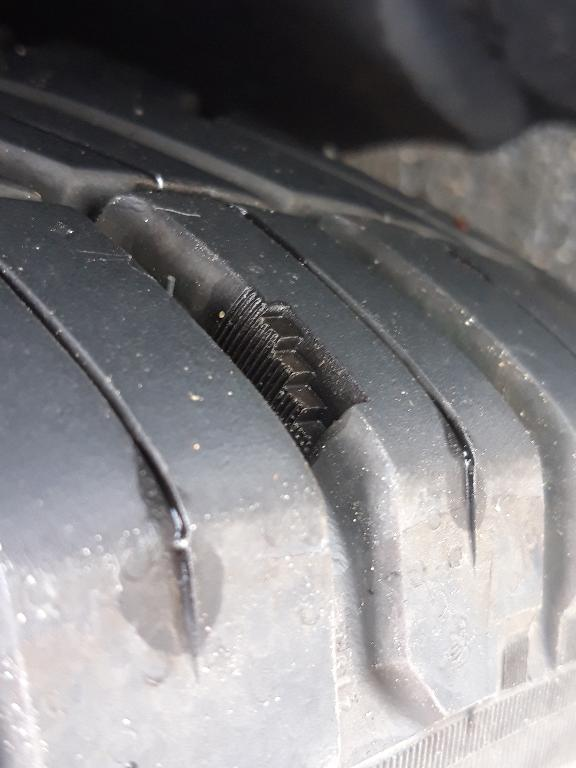temoin:90: (208, 281, 379, 466)
